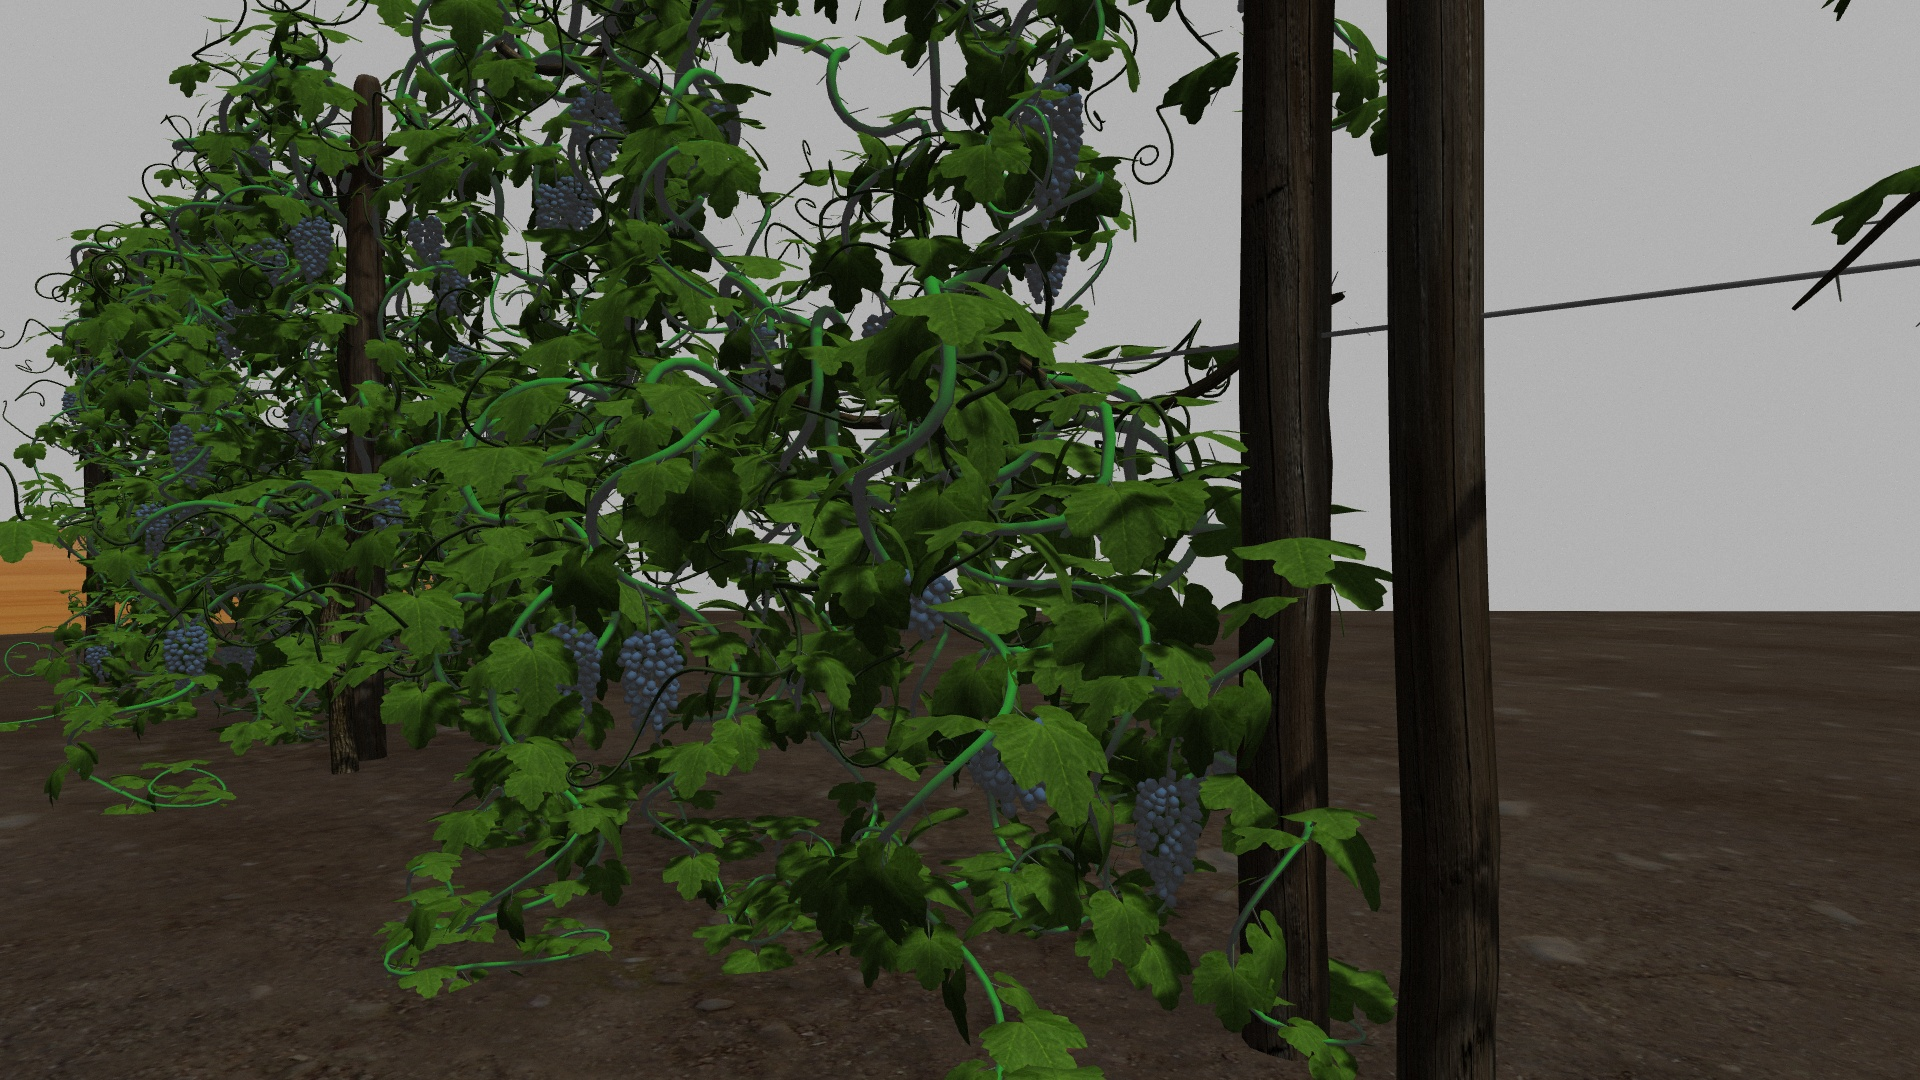grape: (1135, 775, 1211, 910), (1022, 84, 1083, 200), (617, 632, 680, 733), (969, 742, 1048, 822), (553, 625, 603, 715), (571, 90, 622, 170), (902, 570, 955, 638), (287, 218, 335, 281), (167, 423, 214, 485), (164, 622, 212, 676), (407, 215, 447, 265), (563, 174, 595, 233), (136, 501, 169, 556), (535, 179, 567, 233), (218, 636, 253, 676), (436, 268, 467, 315), (84, 645, 112, 679)
